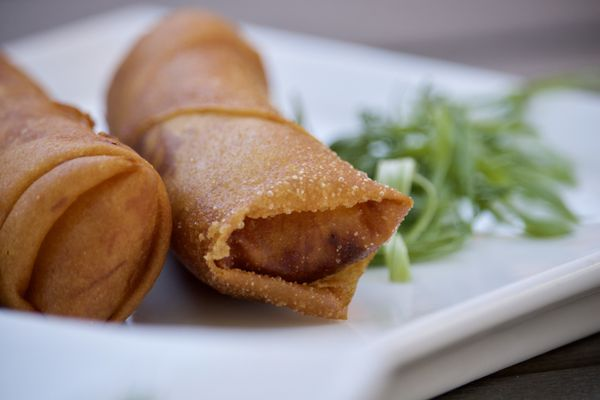soup: (137, 106, 413, 318)
